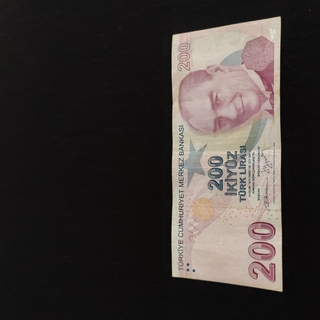200TLFront: (171, 16, 282, 293)
